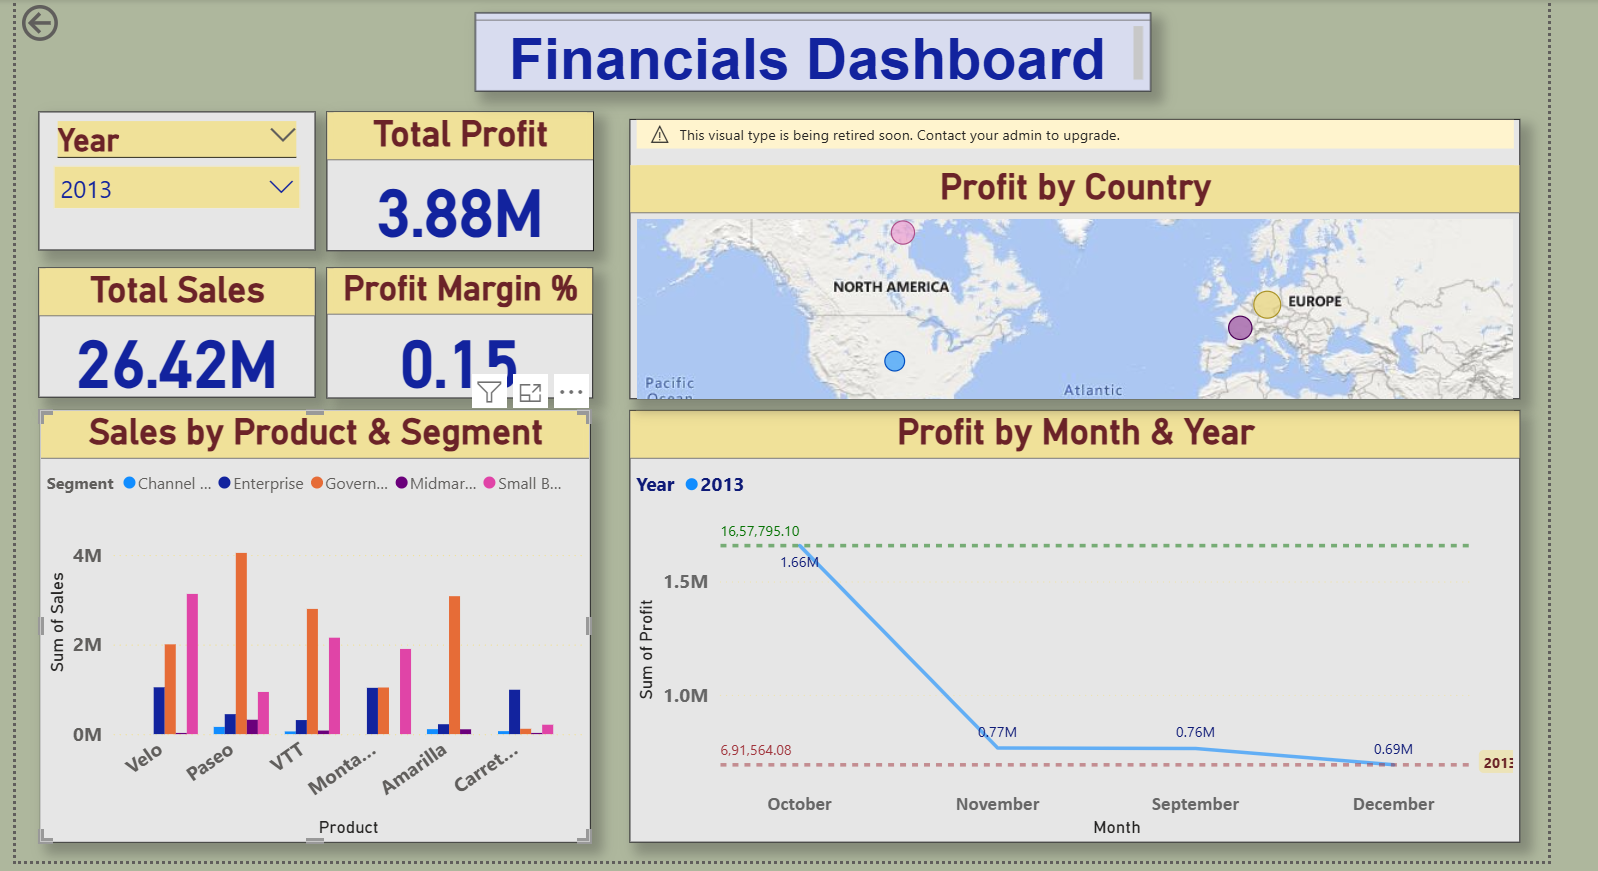

This screenshot's page, from the dashboard's own definition file:
{"tool":"powerbi","page":{"name":"Page 1","canvas":[1280,720],"ordinal":0},"visuals":[{"type":"slicer","fields":{"Values":["Financials.Year"]},"box":[19.4,94.3,231.1,116.2],"z":0},{"type":"card","title":"Total Profit","fields":{"Values":["Financials.Total Profit"]},"box":[259.5,94.3,223.4,116.2],"z":1000},{"type":"card","title":"Total Sales","fields":{"Values":["Financials.Total Sales"]},"box":[19.4,224.7,231.1,108.5],"z":2000},{"type":"card","title":"Profit Margin %","fields":{"Values":["Financials.Profit Margin %"]},"box":[259.9,224.5,223,109.2],"z":3000},{"type":"lineChart","title":"Profit by Month & Year","fields":{"Y":["Sum(Financials.Profit)"],"Series":["Financials.Year"],"Category":["Financials.Month"]},"box":[512.1,342.9,744.3,361.4],"z":4000},{"type":"clusteredColumnChart","title":"Sales by Product & Segment","fields":{"Category":["Financials.Product"],"Series":["Financials.Segment"],"Y":["Sum(Financials. Sales)"]},"box":[20,342.9,459.8,361.4],"z":5000},{"type":"map","title":"Profit by Country","fields":{"Category":["Financials.Country"],"Size":["Sum(Financials.Profit)"]},"box":[512.1,100,744.3,233.8],"z":6000},{"type":"textbox","box":[382.9,10.8,564.4,66.1],"z":7000},{"type":"actionButton","box":[0,0,100,40],"z":8000}]}

Visuals, with their boxes in screenshot pixels (x1, y1, x2, y2):
slicer - Financials.Year: 40:108:315:247
"Total Profit" card: 326:108:592:247
"Total Sales" card: 40:264:315:393
"Profit Margin %" card: 326:263:592:393
"Profit by Month & Year" lineChart: 627:404:1513:835
"Sales by Product & Segment" clusteredColumnChart: 40:404:588:835
"Profit by Country" map: 627:115:1513:393
textbox: 473:9:1145:87
actionButton: 17:0:136:43
